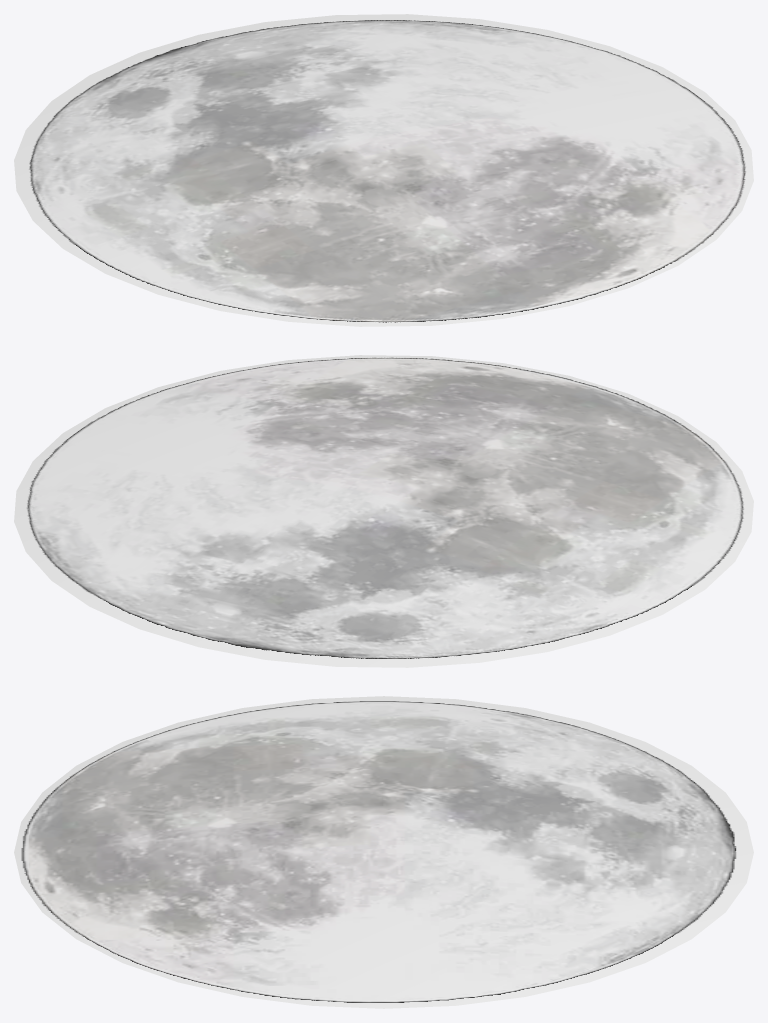
The model's file is Moon.FBX.
The picture shows the model from 3 angles, top to bottom: view 1: azimuth 30°, elevation 25°; view 2: azimuth 150°, elevation 25°; view 3: azimuth 270°, elevation 25°; orthographic projection.
Visible parts, largest first — view 1: Sphere001; view 2: Sphere001; view 3: Sphere001.
Part boxes in pixels (left/top/right/bottom): Sphere001: left=14, top=14, right=753, bottom=326; Sphere001: left=14, top=355, right=753, bottom=667; Sphere001: left=14, top=696, right=753, bottom=1008.
Bounding box in the file's own units: 60.44 × 2.41 × 60.44.
